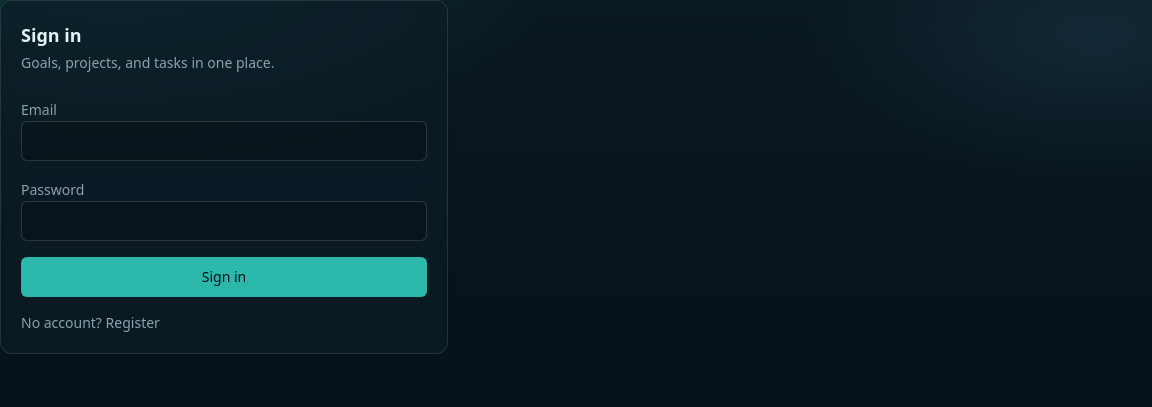
Test: LoginForm › shows an error message when login fails
In the field labelled "Email": (224, 141) top-left (21, 121), bottom-right (427, 161), type "demo@devtrack.local"
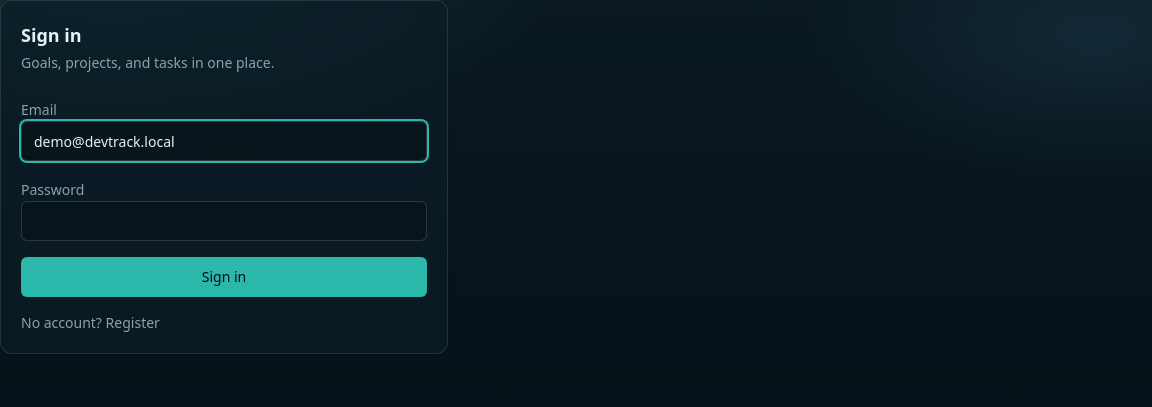
In the password field labelled "Password": (224, 221) top-left (21, 201), bottom-right (427, 241), type "password123"
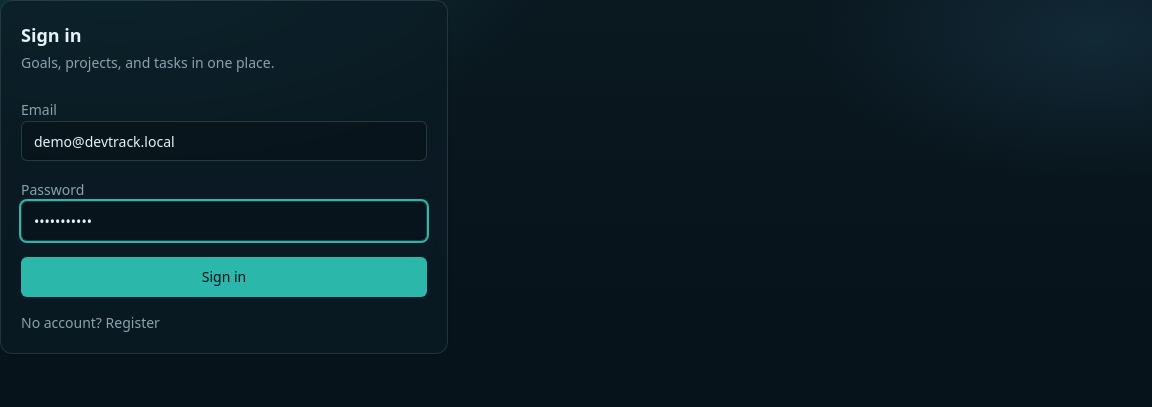
Click the button "Sign in": (224, 277) top-left (21, 257), bottom-right (427, 297)
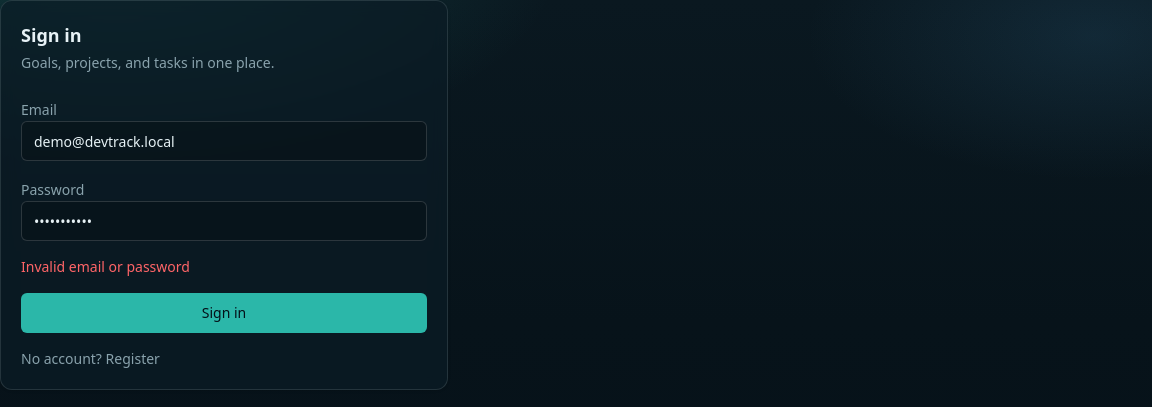
Expected: the text "Invalid email or password" is shown, top-left (21, 257), bottom-right (190, 276)
